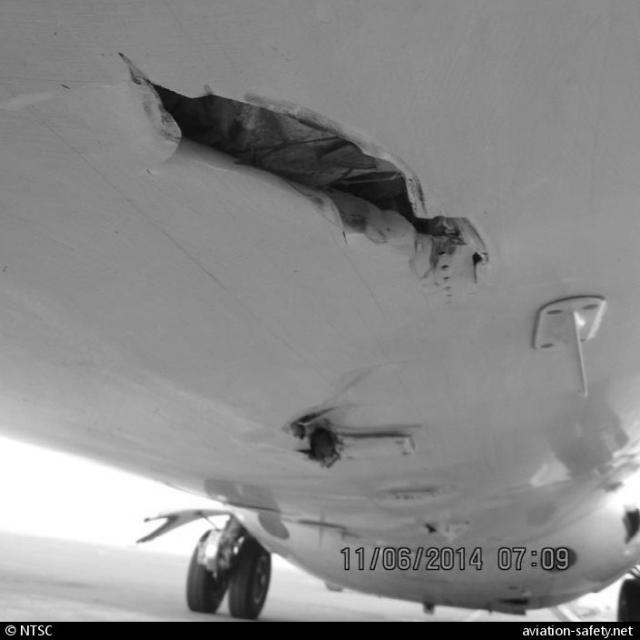crack: (112, 54, 495, 304)
